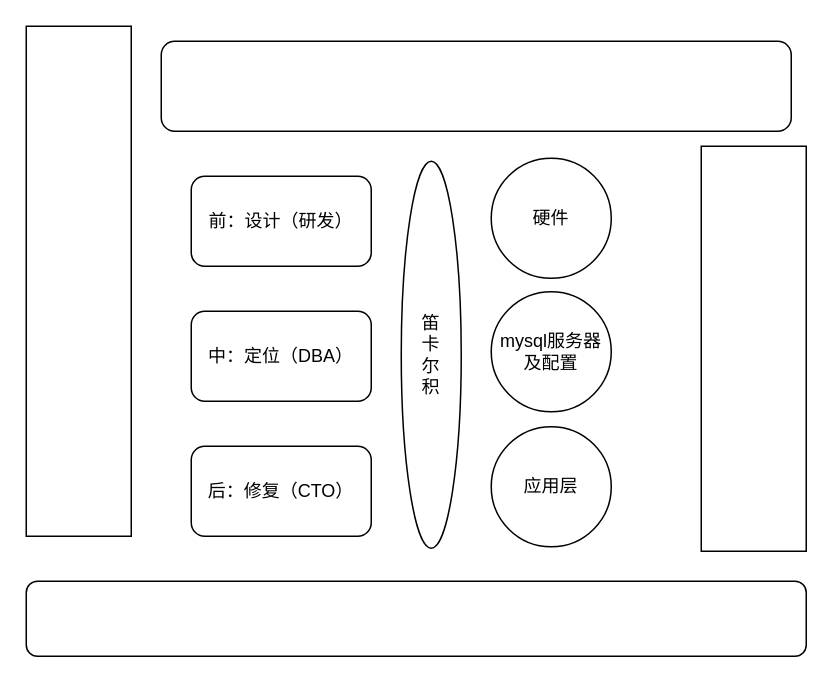
The diagram is 833 pixels wide and 683 high, and some of its shapes have lost their labels. Here are the shapes that lost their labels. From the top down, the centre of each, then its label:
At pixel 475 85: "了解服务器".
At pixel 78 280: "测试： 基准测试".
At pixel 753 348: "高可用： 可维护 可扩展 容灾".
At pixel 415 618: "工具".
